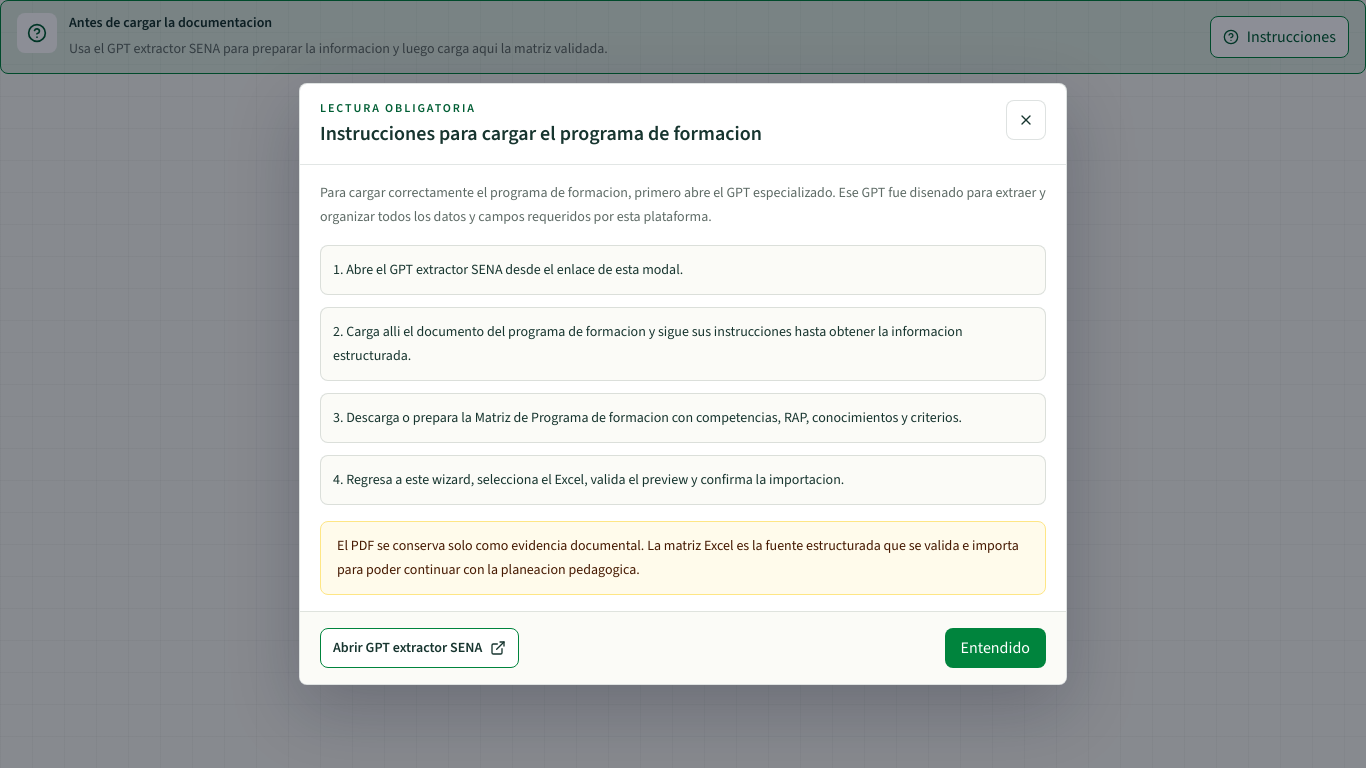
ExtractorSenaInstructions › opens automatically once per program reference and remembers acknowledgement
Step 1. Click the button "Entendido" → (995, 648), box [945,628,1046,668]
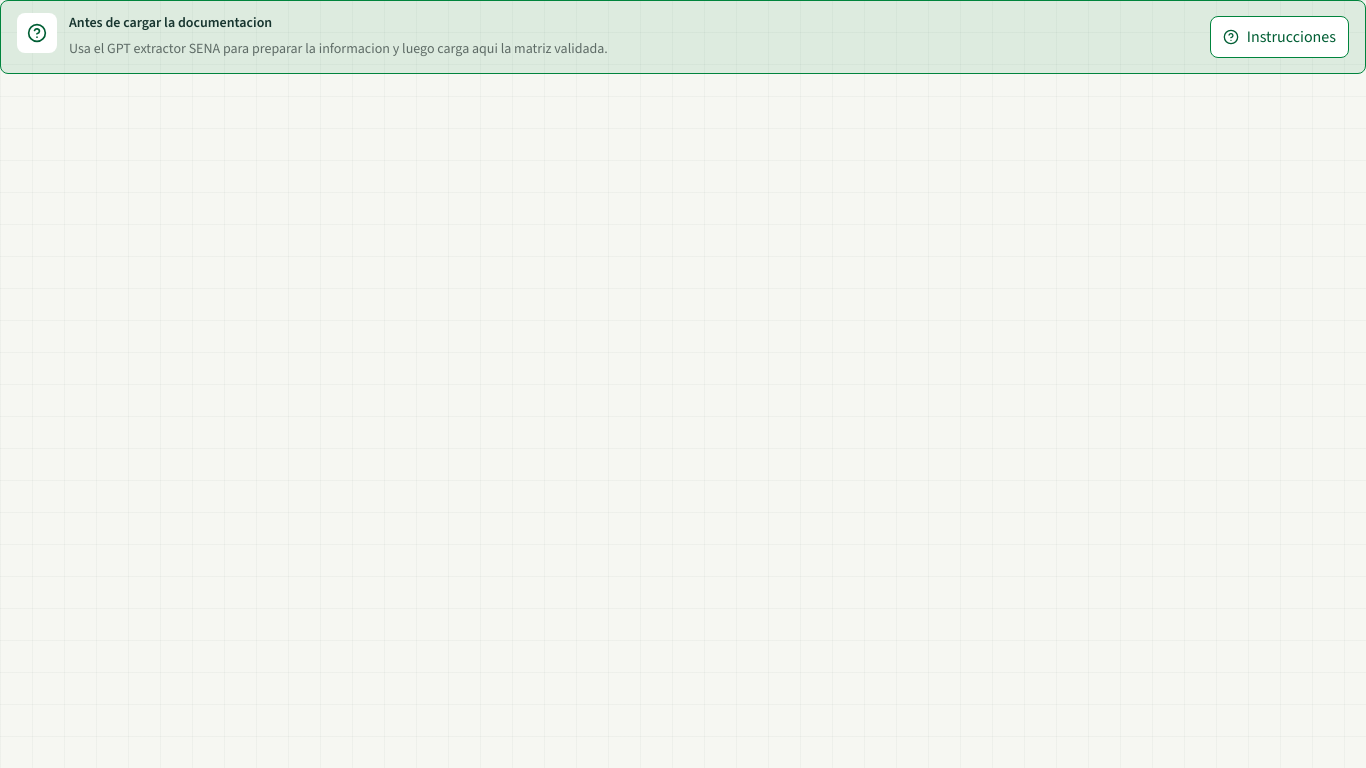
Expected: the dialog is gone
